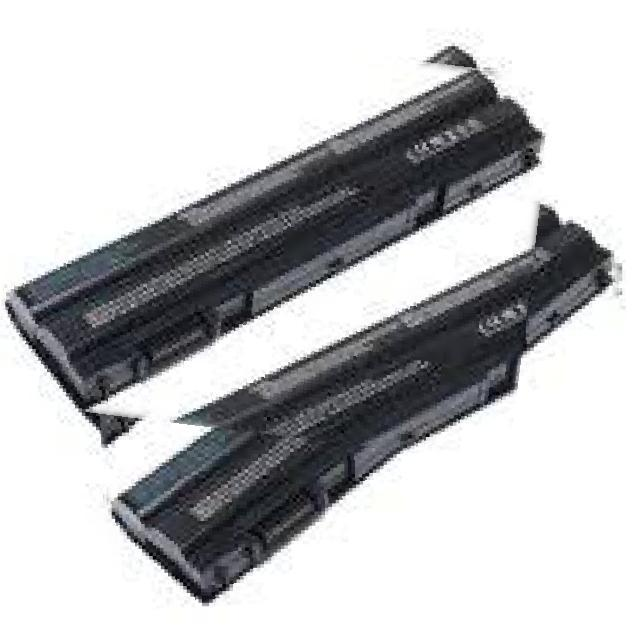Battery: (94, 200, 632, 632), (2, 33, 574, 430)
